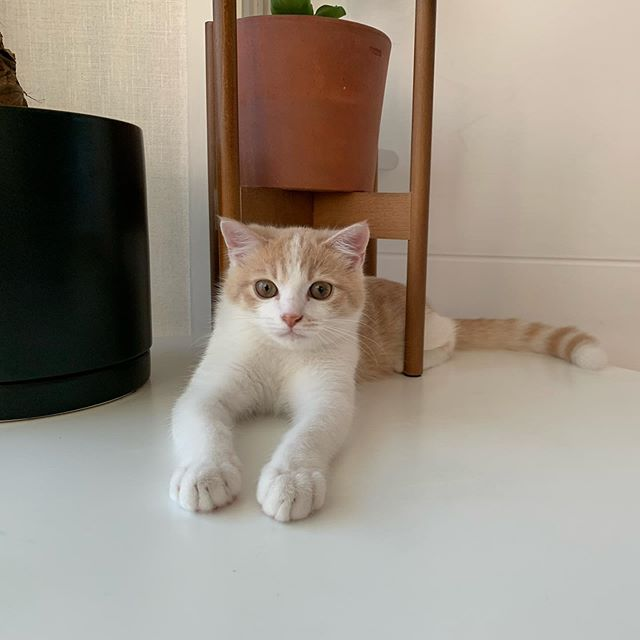cat: (209, 203, 375, 369)
